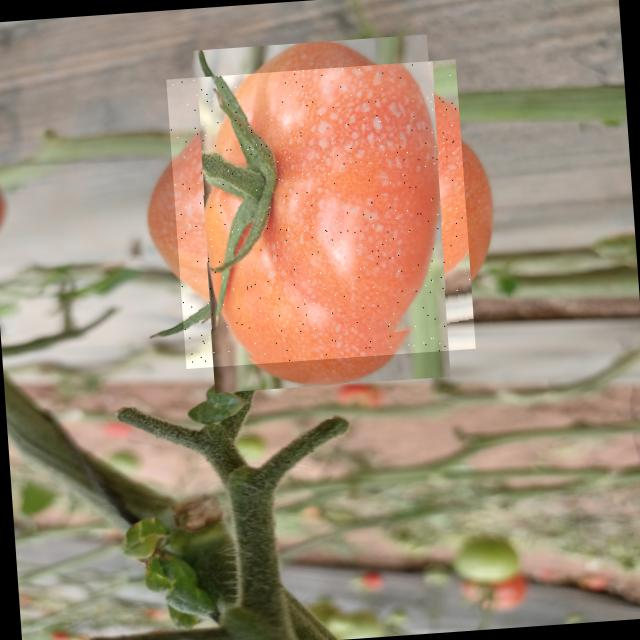Ripe Tomato: (165, 59, 476, 368)
